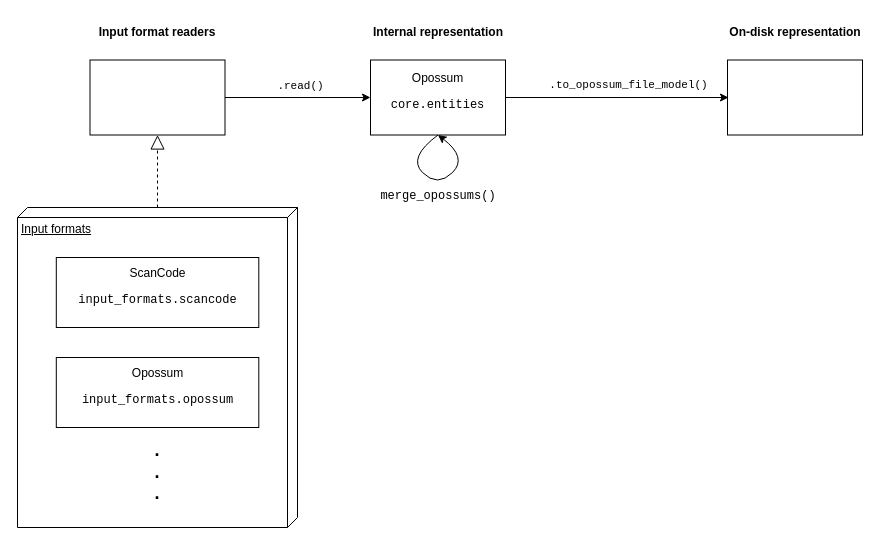
This 882x545 diagram has some shape labels left out. Here are the shapes that lost their labels. From the top down, the centre of each, then its label:
At (x=157, y=97): "InputReader core.services".
At (x=794, y=97): "OpossumFileModel shared.entities".
